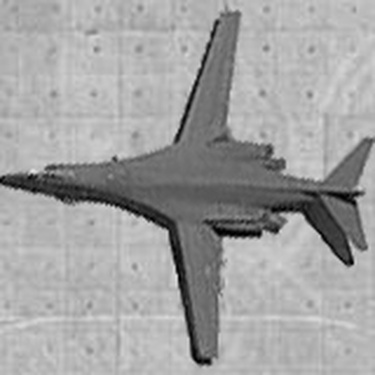airplane: (3, 5, 369, 369)
